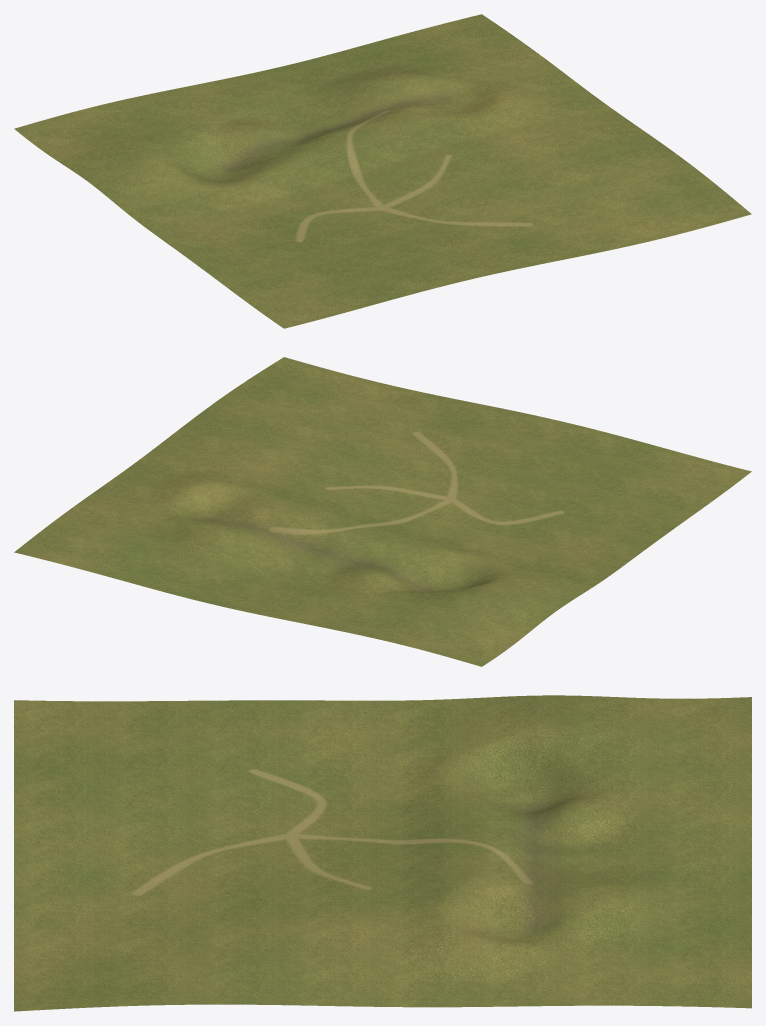
The model's file is artist-asset.glb.
3 renders of one model, top to bottom at view 1: azimuth 30°, elevation 25°; view 2: azimuth 150°, elevation 25°; view 3: azimuth 270°, elevation 25°, orthographic. The views are drawn at different scales.
Visible parts, largest first — view 1: ZoneOne continuous prairie source; view 2: ZoneOne continuous prairie source; view 3: ZoneOne continuous prairie source.
Boxes of the visible parts, x1=… form: ZoneOne continuous prairie source: x1=14, y1=14, x2=751, y2=328; ZoneOne continuous prairie source: x1=14, y1=357, x2=751, y2=666; ZoneOne continuous prairie source: x1=14, y1=695, x2=751, y2=1011.
Bounding box in the file's own units: 240 × 13.05 × 240.
Materials: 1 (1 with a texture image).
